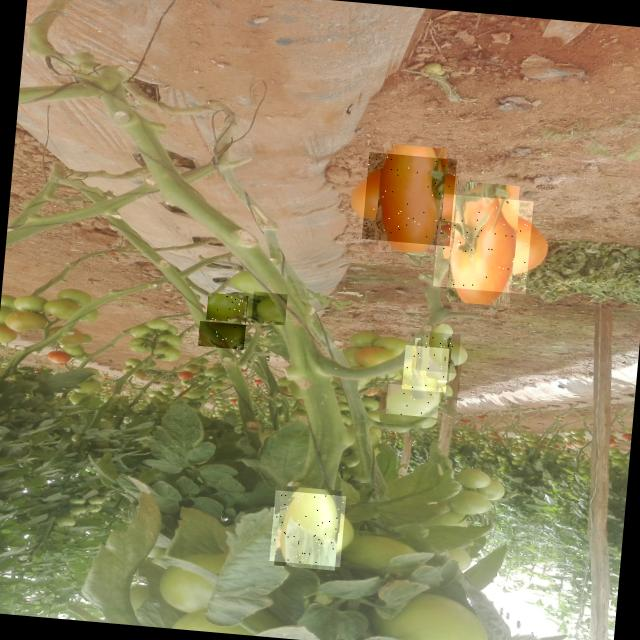Ripe Tomato: (432, 193, 534, 294), (362, 152, 456, 246)
Unripe Tomato: (269, 489, 346, 566), (401, 344, 449, 392), (386, 383, 440, 418), (418, 331, 460, 373), (198, 320, 245, 350), (248, 291, 287, 325), (205, 292, 248, 322)
